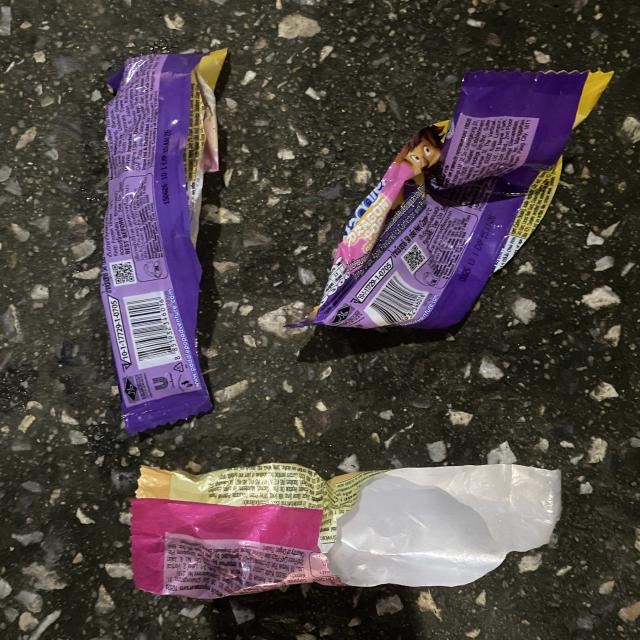plastik: (302, 71, 612, 329), (131, 464, 561, 599), (100, 49, 226, 434)
